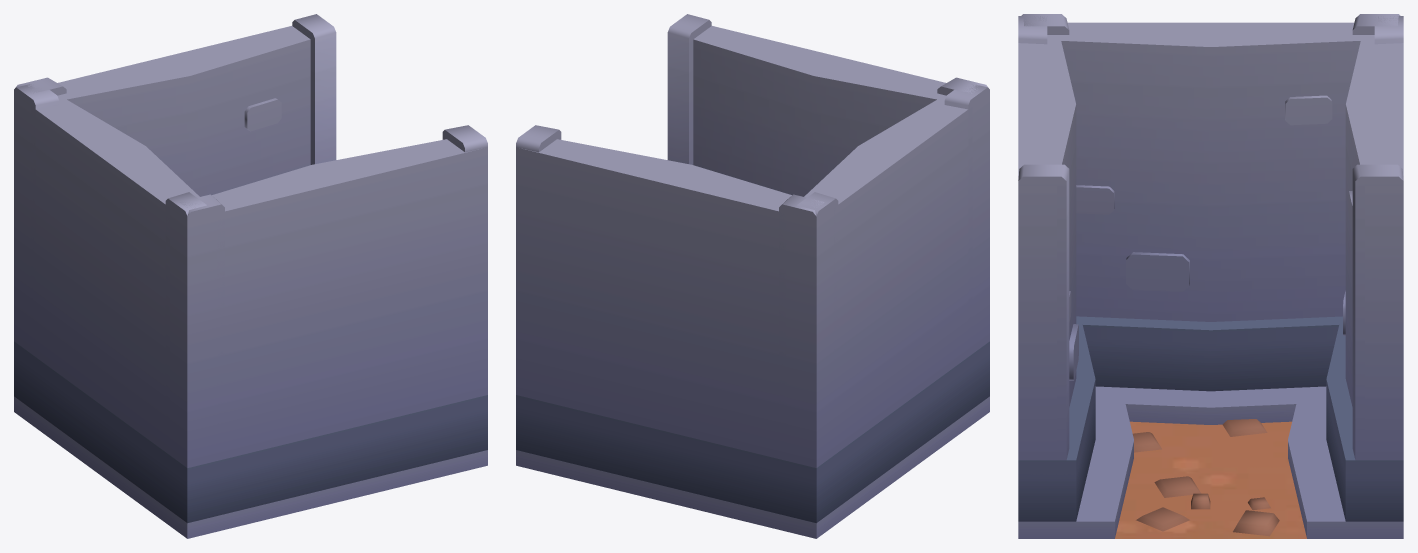
The model's file is corridor-end.glb.
3 renders of one model, left to right at view 1: azimuth 30°, elevation 25°; view 2: azimuth 150°, elevation 25°; view 3: azimuth 270°, elevation 25°, orthographic. The views are drawn at different scales.
Parts seen in each view (by area): view 1: corridor-end; view 2: corridor-end; view 3: corridor-end.
Part boxes in pixels (x1,y1,x2,y2): corridor-end: (14, 14, 487, 538); corridor-end: (516, 14, 989, 538); corridor-end: (1018, 14, 1403, 538).
Bounding box in the file's own units: 4 × 4.15 × 4.
1 material, 1 textured.
